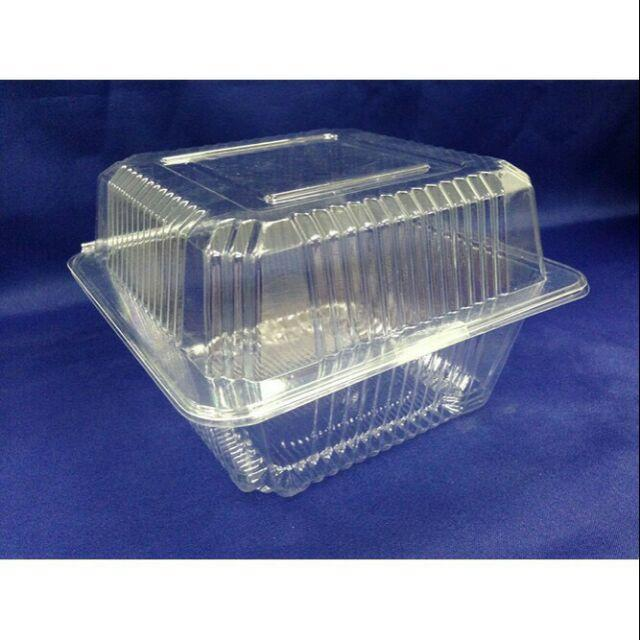Recipiente plastico: (58, 115, 602, 515)
